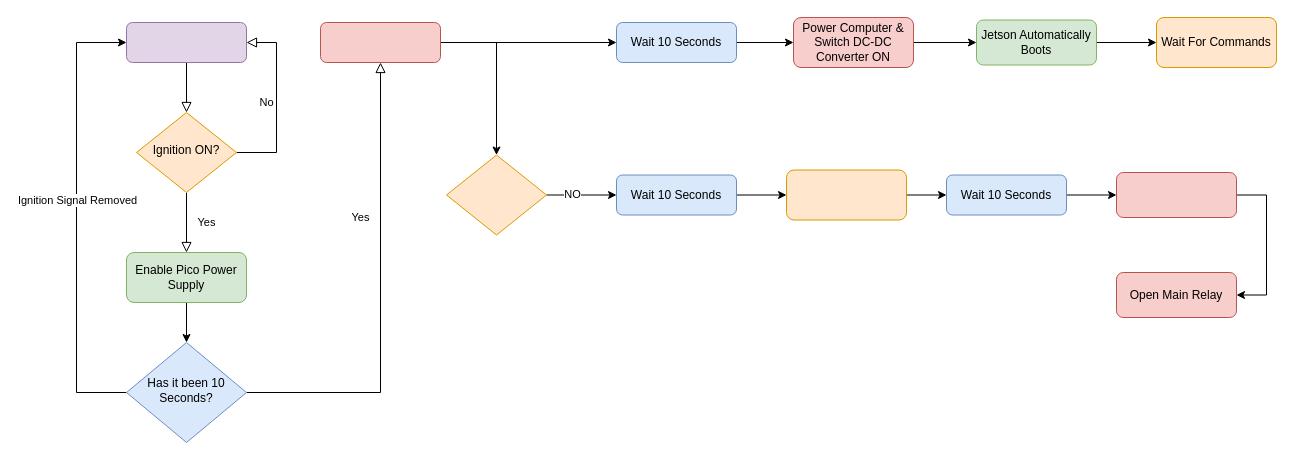
The diagram is 1294 pixels wide and 460 high, and some of its shapes have lost their labels. Each missing label, with the centre of its shape:
"Press" Jetson Power Button (to turn Off): pixel 846 194
Close Main Relay: pixel 380 42
Ignition Still ON?: pixel 496 194
Starting State, Power Off: pixel 186 42
Turn Off DC-DC converters: pixel 1176 195
